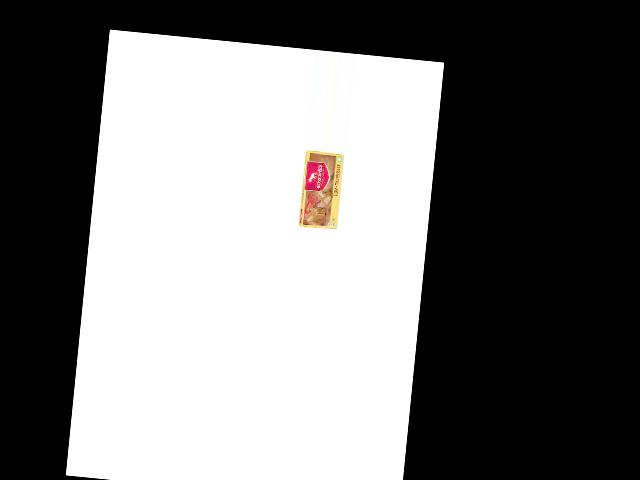chocolate: (296, 150, 350, 232)
